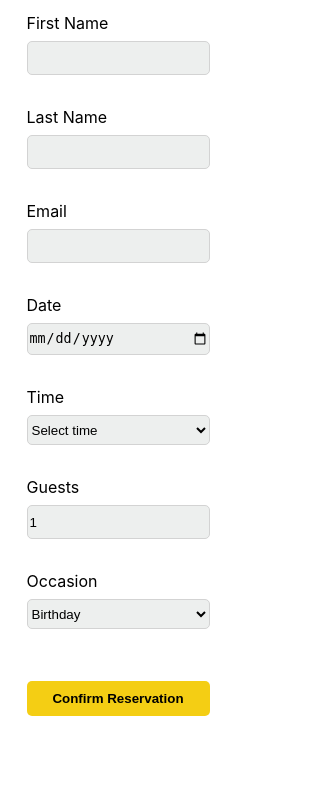
Test case: removes email error when corrected
Type "wrong" into the field labelled "Email".
click(118, 246); type("wrong")  # box [26,229,210,263]
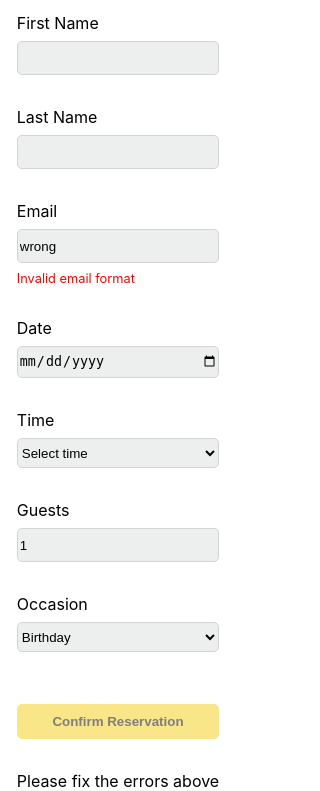
Check: the text "Invalid email format" is shown, box [17,271,135,286]
Replace the text in the field labelled "Email Invalid email format" with "test@test.com" at (118, 246), box [17,229,219,263]
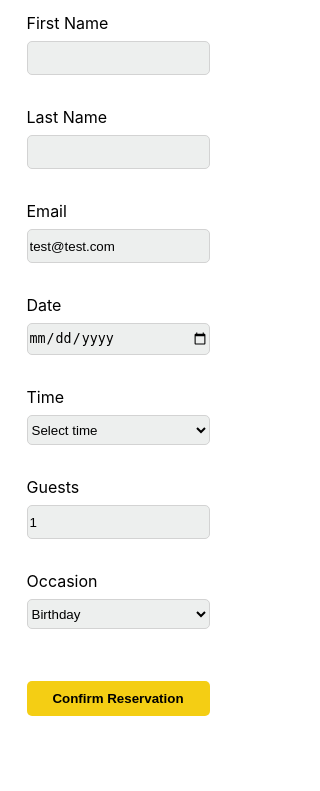
Check: the text "Invalid email format" is gone
